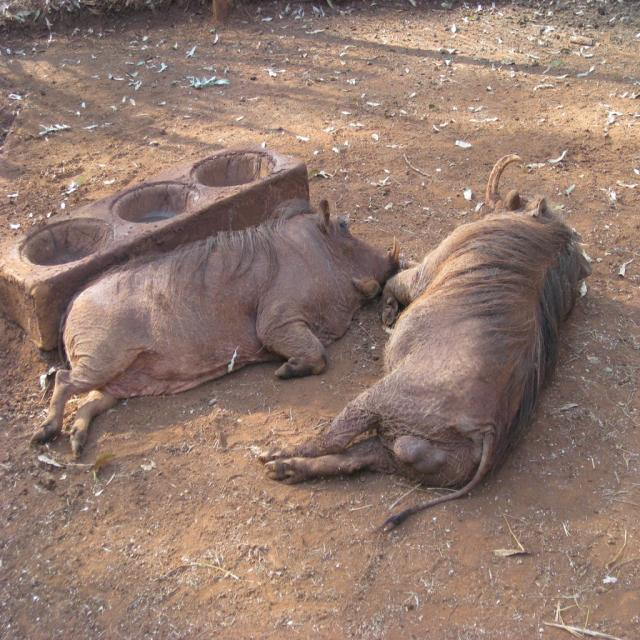Pig: (258, 154, 593, 540), (29, 198, 403, 458)
